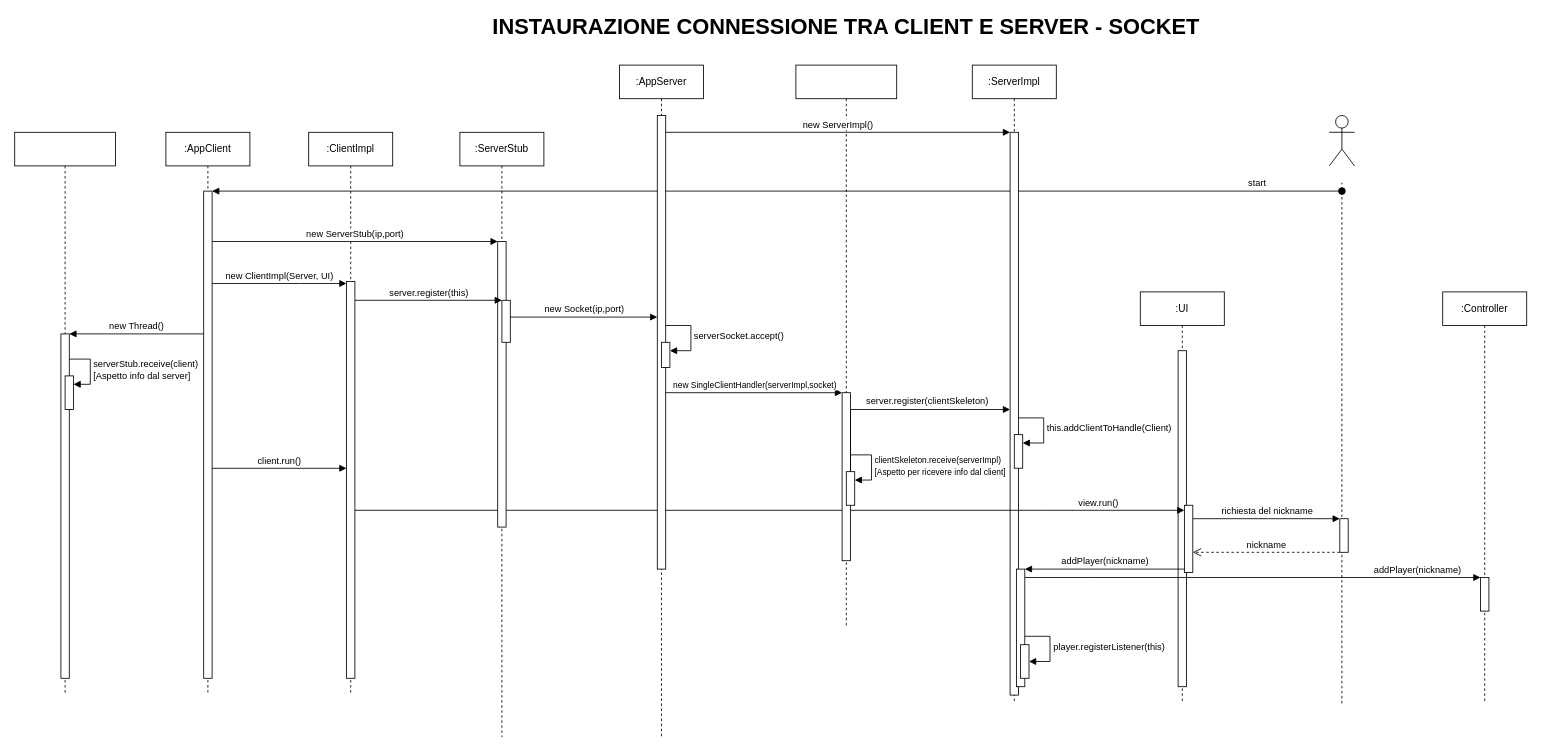
The diagram is 1541 pixels wide and 752 high, and some of its shapes have lost their labels. The shapes that lost their labels are listed below. From the top down, each one's box as (x1, y1, x2, y2) in pixels, then its label:
(1328, 115, 1354, 166): User
(795, 64, 897, 628): :SingleClientHandler
(14, 131, 116, 695): :AnonymousThread
